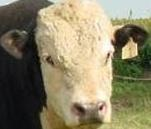muzzles: (67, 98, 113, 128)
